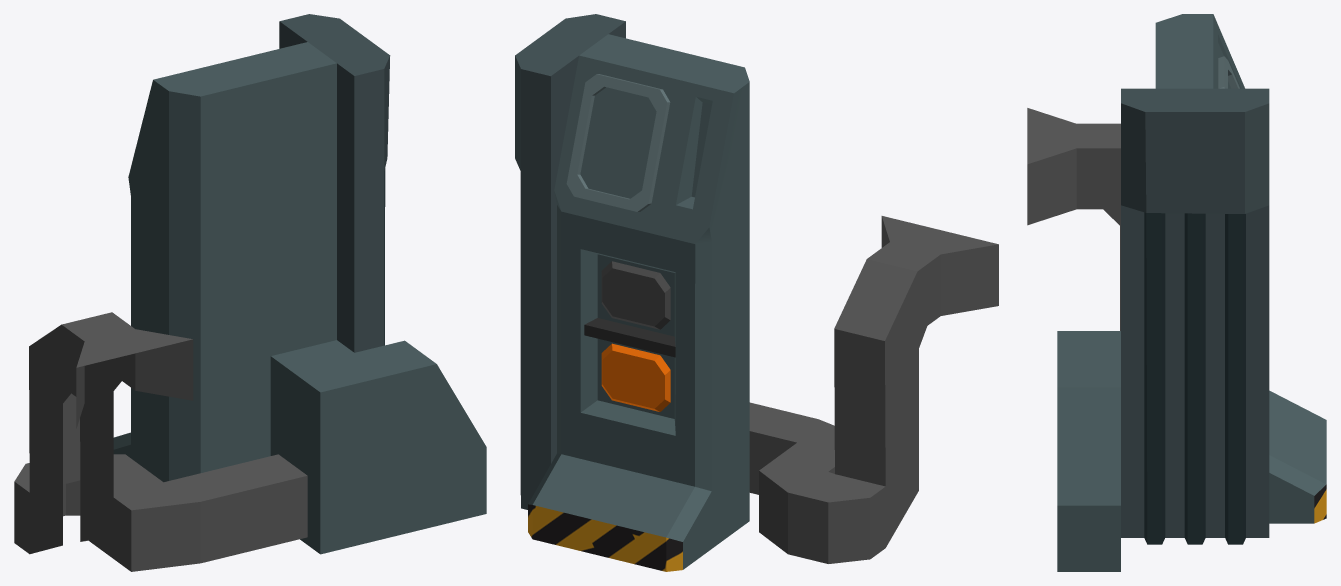
The model's file is SM_switch_clone_false1.fbx.
3 renders of one model, left to right at view 1: azimuth 30°, elevation 25°; view 2: azimuth 150°, elevation 25°; view 3: azimuth 270°, elevation 25°, orthographic.
Parts seen in each view (by area): view 1: SM_switch_clone_false1; view 2: SM_switch_clone_false1; view 3: SM_switch_clone_false1.
Part boxes in pixels (box(x1,y1,x2,y2)): SM_switch_clone_false1: box(14, 14, 486, 571); SM_switch_clone_false1: box(515, 14, 998, 571); SM_switch_clone_false1: box(1027, 14, 1326, 571).
Size of the model in its own units: 150 by 148 by 92.47.
1 material, 1 textured.
